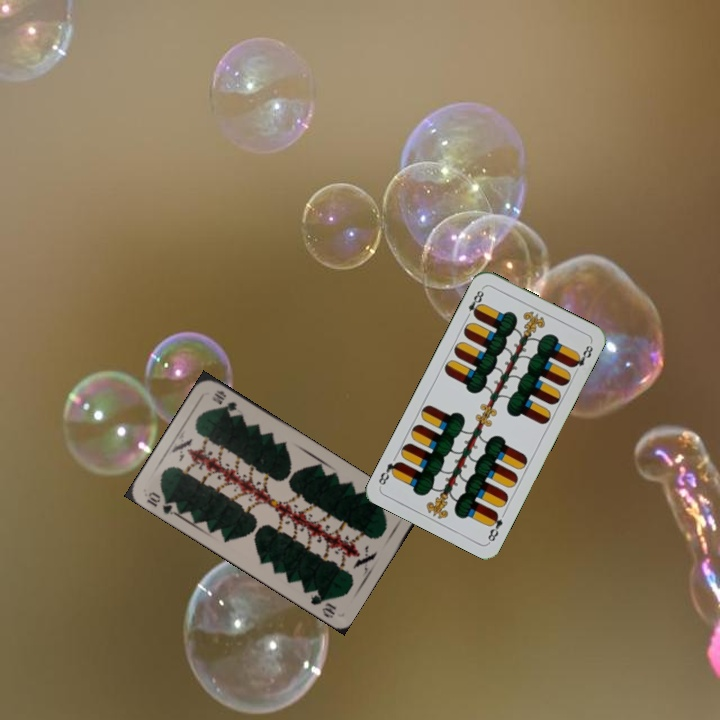E8: (462, 284, 487, 321), (484, 508, 505, 545)
G10: (142, 488, 181, 517)
